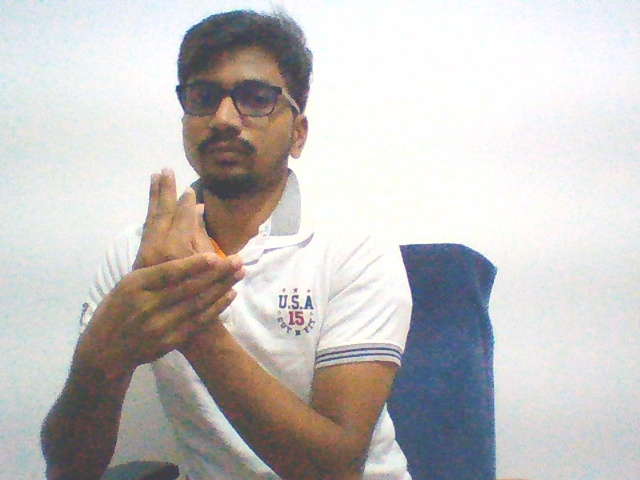tree: (67, 153, 250, 392)
